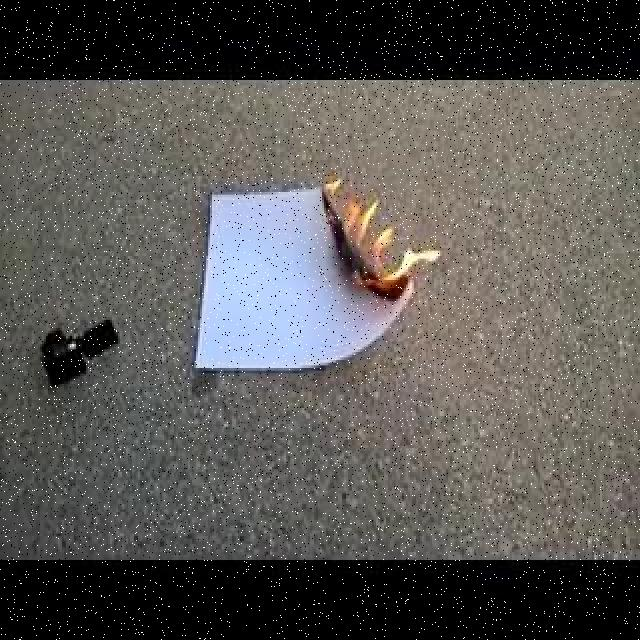fire: (327, 179, 437, 301)
